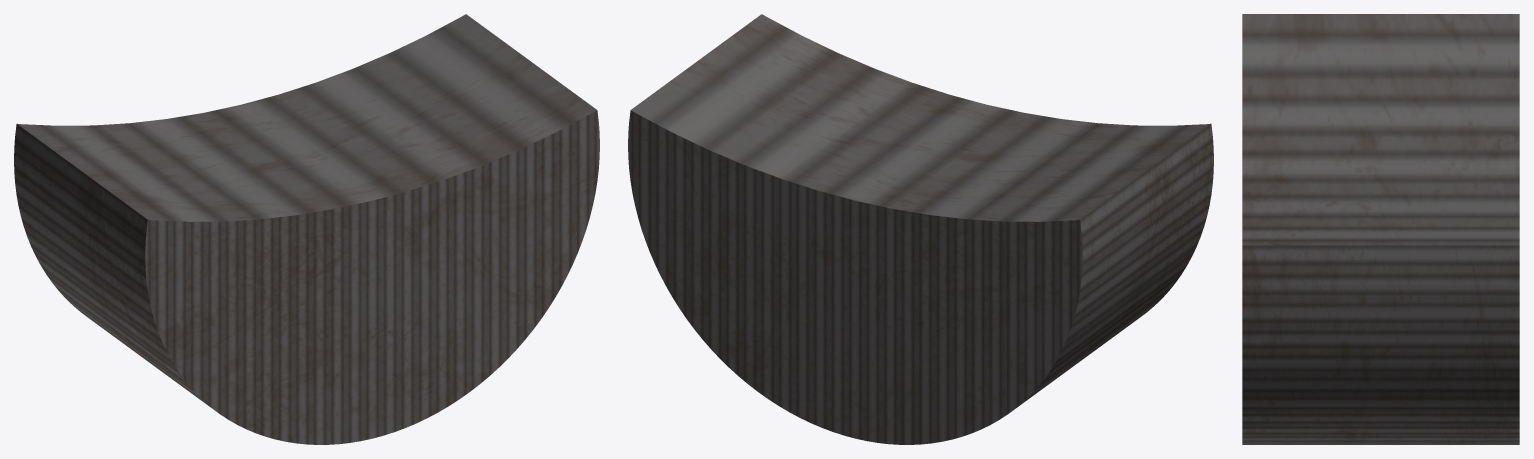
Rendered from gate-part3.fbx.
The picture shows the model from 3 angles, left to right: view 1: azimuth 30°, elevation 25°; view 2: azimuth 150°, elevation 25°; view 3: azimuth 270°, elevation 25°; orthographic projection. The views are drawn at different scales.
Parts seen in each view (by area): view 1: Still-small-cylinder; view 2: Still-small-cylinder; view 3: Still-small-cylinder.
Boxes of the visible parts, x1,y1,x2,y2 form: Still-small-cylinder: (14,14,599,444); Still-small-cylinder: (628,14,1213,444); Still-small-cylinder: (1242,14,1519,444).
Bounding box in the file's own units: 0.3 × 0.1726 × 0.15.
